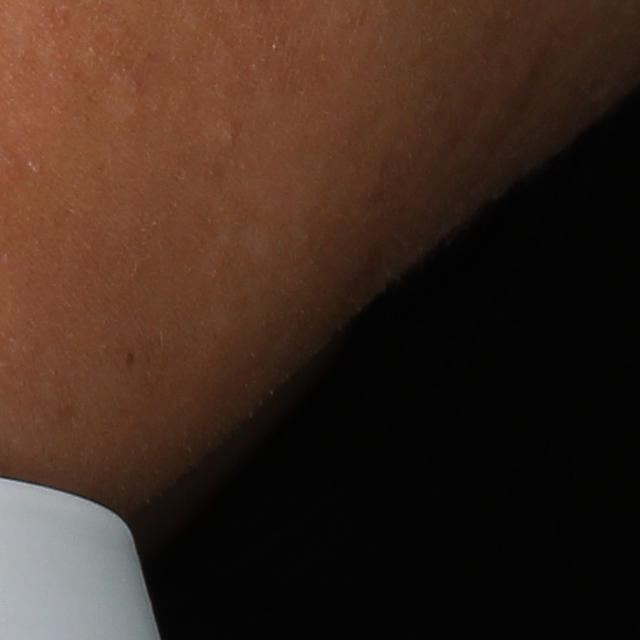comedo: (219, 124, 243, 149)
nevus: (123, 350, 136, 367)
